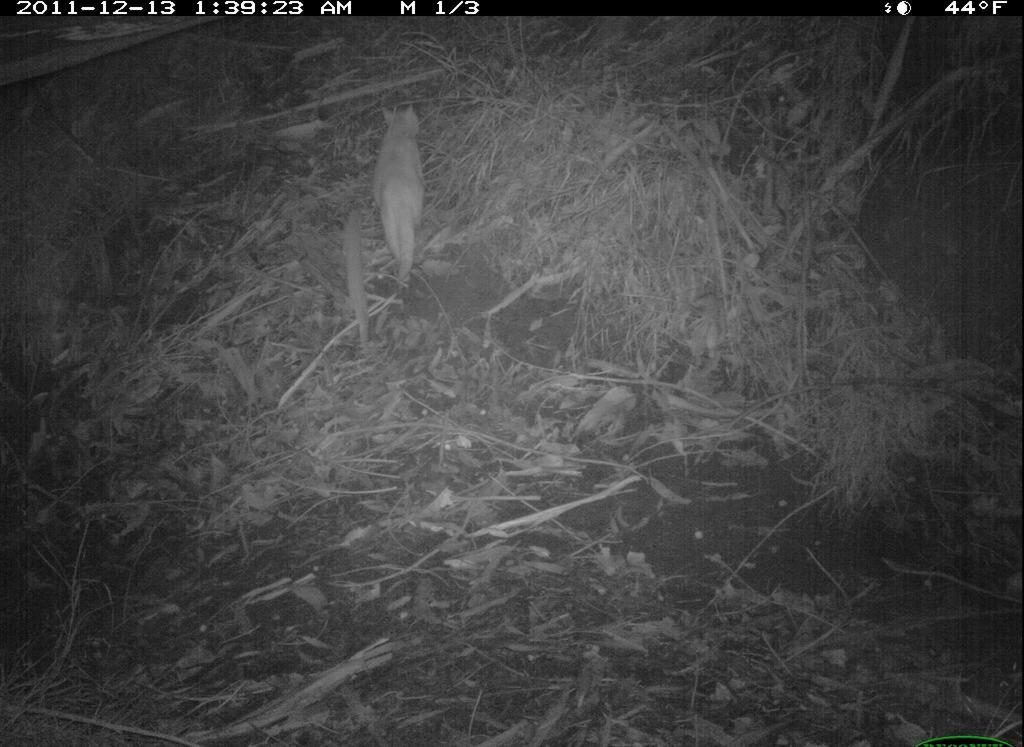cat: (367, 103, 441, 303)
